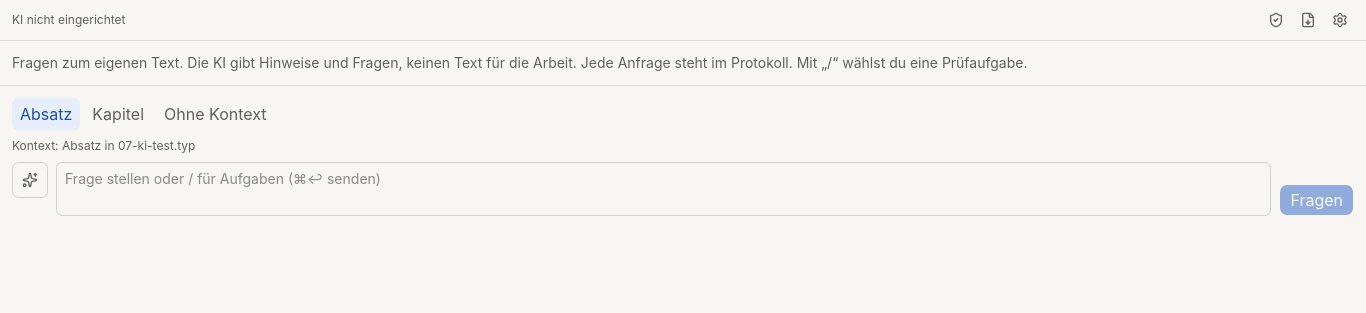
Test: Assistant: Schrägstrich-Menü › wählt eine Prüfaufgabe mit „/“ und führt sie aus
The image size is (1366, 313).
Type "/beleg" into the text box with placeholder "Frage stellen oder / für Aufgaben (⌘↩ senden)" at [664, 189], box [56, 162, 1271, 216]
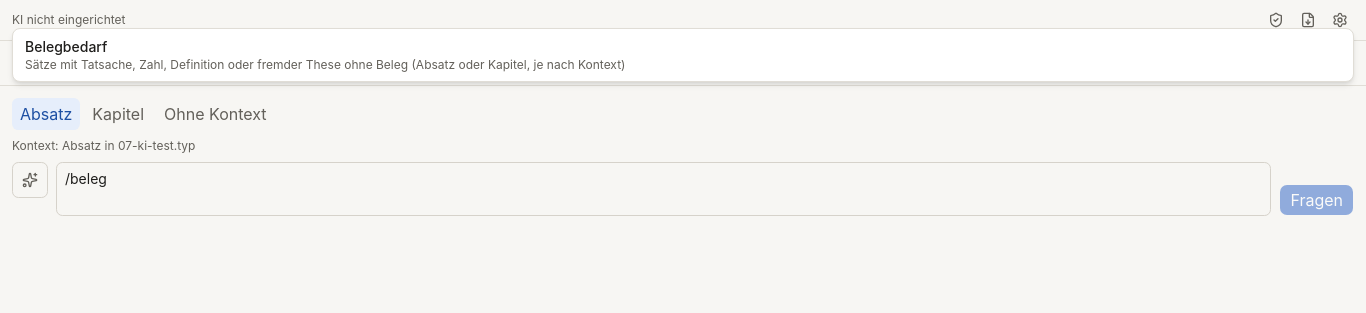
Now the number of menu items is 1
Click the menu item "Belegbedarf" at [66, 46], box [13, 29, 1353, 81]
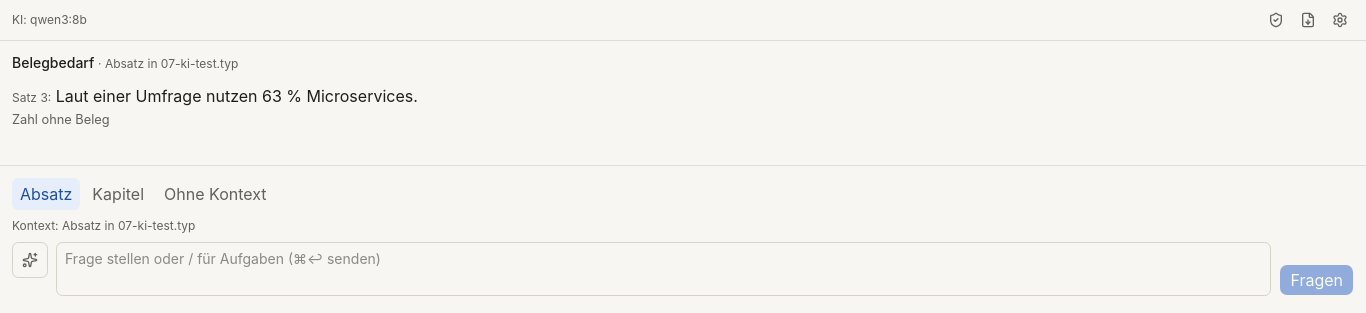
Now the text "Zahl ohne Beleg" is shown, box [12, 112, 110, 127]
